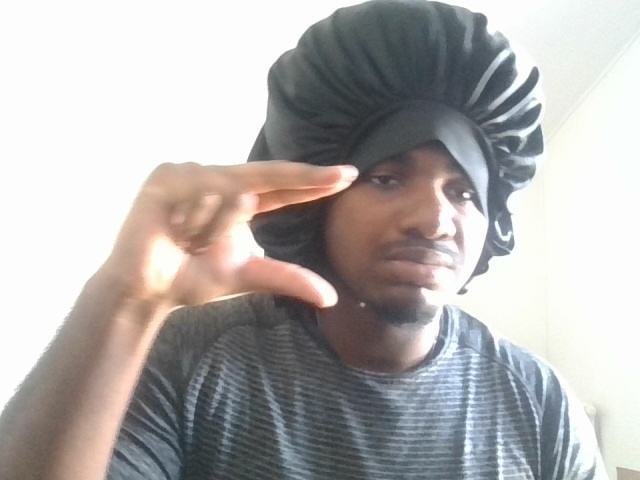No: (100, 120, 364, 339)
